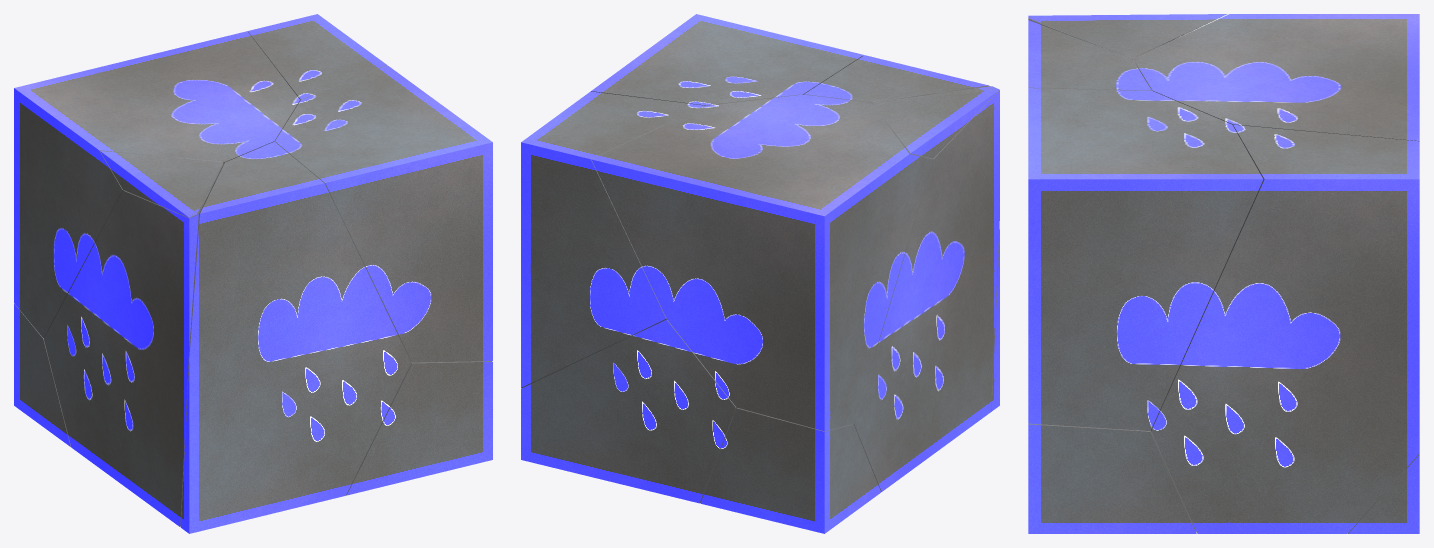
The model's file is broke_rain_stone.glb.
The picture shows the model from 3 angles, left to right: view 1: azimuth 30°, elevation 25°; view 2: azimuth 150°, elevation 25°; view 3: azimuth 270°, elevation 25°; orthographic projection. The views are drawn at different scales.
Parts seen in each view (by area): view 1: BrokenRainStone_cell; view 2: BrokenRainStone_cell; view 3: BrokenRainStone_cell.
Part boxes in pixels (left/top/right/bottom): BrokenRainStone_cell: left=14, top=14, right=492, bottom=533; BrokenRainStone_cell: left=521, top=14, right=999, bottom=533; BrokenRainStone_cell: left=1028, top=14, right=1419, bottom=533.
Size of the model in its own units: 1 by 1 by 1.
Materials: 2 (2 with a texture image).
